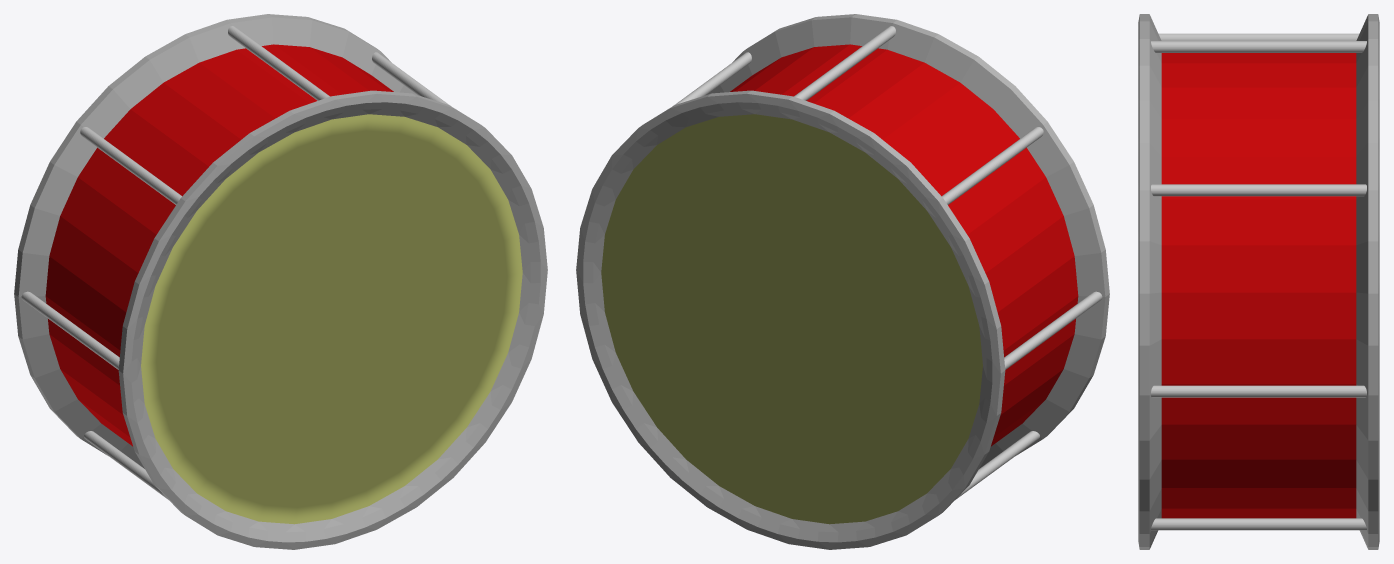
File: Drum.fbx
3 renders of one model, left to right at view 1: azimuth 30°, elevation 25°; view 2: azimuth 150°, elevation 25°; view 3: azimuth 270°, elevation 25°, orthographic. The views are drawn at different scales.
Visible parts, largest first — view 1: Drum; view 2: Drum; view 3: Drum.
Part boxes in pixels (box(x1,y1,x2,y2)): Drum: box(14, 14, 547, 549); Drum: box(576, 14, 1109, 549); Drum: box(1138, 14, 1379, 549).
Bounding box in the file's own units: 93.69 × 93.69 × 42.18.
